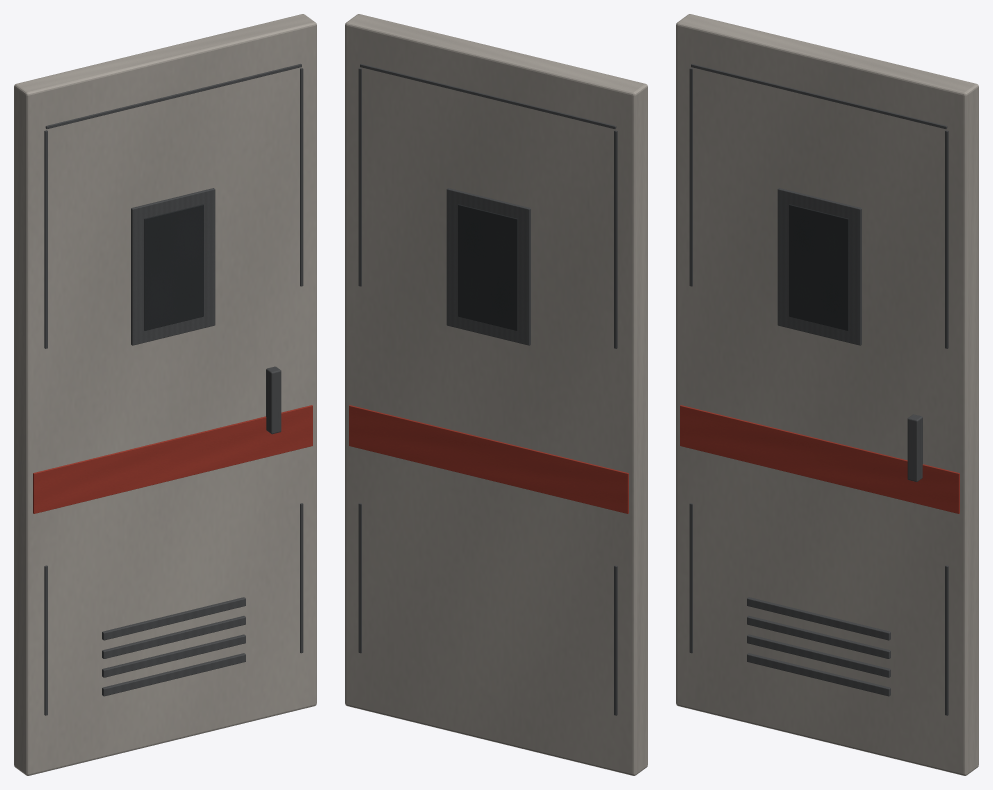
The model's file is service_door.glb.
3 views of the same model, side by side, from view 1: azimuth 30°, elevation 25°; view 2: azimuth 150°, elevation 25°; view 3: azimuth 330°, elevation 25° (orthographic).
Visible parts, largest first — view 1: door_leaf.005, red_stripe.006, window_inset.006, window_bezel.006, vent_slit.003, vent_slit, vent_slit.001, vent_slit.002, panel_reveal.002, handle.009, edge_reveal.009, edge_reveal.011 (+2 smaller); view 2: door_leaf.005, red_stripe.007, window_inset.007, window_bezel.007, panel_reveal.003, edge_reveal.013, edge_reveal.015, edge_reveal.012, edge_reveal.014; view 3: door_leaf.005, red_stripe.006, window_inset.006, window_bezel.006, vent_slit.003, vent_slit, vent_slit.001, vent_slit.002, panel_reveal.002, handle.009, edge_reveal.011, edge_reveal.009 (+2 smaller).
Boxes of the visible parts, box(x1,y1,x2,y2) form: door_leaf.005: box(14, 14, 316, 775); red_stripe.006: box(33, 405, 312, 513); window_inset.006: box(144, 204, 203, 330); window_bezel.006: box(131, 188, 215, 345); vent_slit.003: box(102, 597, 245, 640); vent_slit: box(102, 653, 245, 696); vent_slit.001: box(102, 634, 245, 677); vent_slit.002: box(102, 616, 245, 658); panel_reveal.002: box(45, 64, 301, 128); handle.009: box(266, 366, 281, 434); edge_reveal.009: box(44, 130, 47, 348); edge_reveal.011: box(300, 68, 303, 286); door_leaf.005: box(345, 14, 647, 775); red_stripe.007: box(349, 405, 628, 513); window_inset.007: box(458, 204, 517, 330); window_bezel.007: box(446, 188, 530, 345); panel_reveal.003: box(360, 64, 616, 128); edge_reveal.013: box(614, 130, 617, 348); edge_reveal.015: box(358, 68, 361, 286); edge_reveal.012: box(614, 565, 617, 715); edge_reveal.014: box(358, 503, 361, 653); door_leaf.005: box(676, 14, 978, 775); red_stripe.006: box(680, 405, 959, 513); window_inset.006: box(789, 204, 848, 330); window_bezel.006: box(777, 188, 861, 345); vent_slit.003: box(747, 597, 890, 640); vent_slit: box(747, 653, 890, 696); vent_slit.001: box(747, 634, 890, 677); vent_slit.002: box(747, 616, 890, 658); panel_reveal.002: box(691, 64, 947, 128); handle.009: box(907, 414, 922, 481); edge_reveal.011: box(945, 130, 948, 348); edge_reveal.009: box(689, 68, 692, 286).
Size of the model in its own units: 0.98 by 2.2 by 0.13.
Materials: 4 (4 with a texture image).
